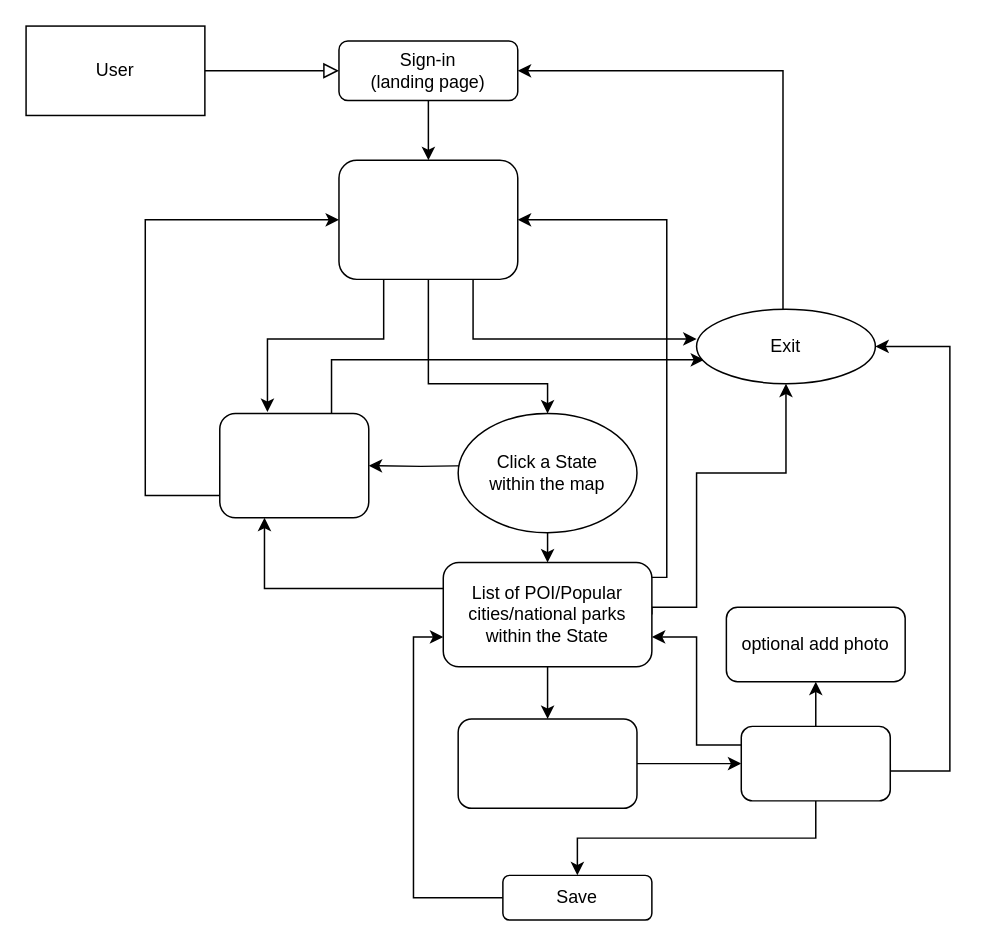
This 988x946 diagram has some shape labels left out. The shapes that lost their labels are listed below. From the top down, each one's box as (x1, y1, x2, y2) in pixels, then its label:
(337, 159, 518, 279): Home page (Interactive Map)
(218, 412, 369, 518): Accessing previous Journal entries
(457, 717, 637, 808): Create Journal Entry
(740, 725, 890, 801): Title & paragraph of travel experience
